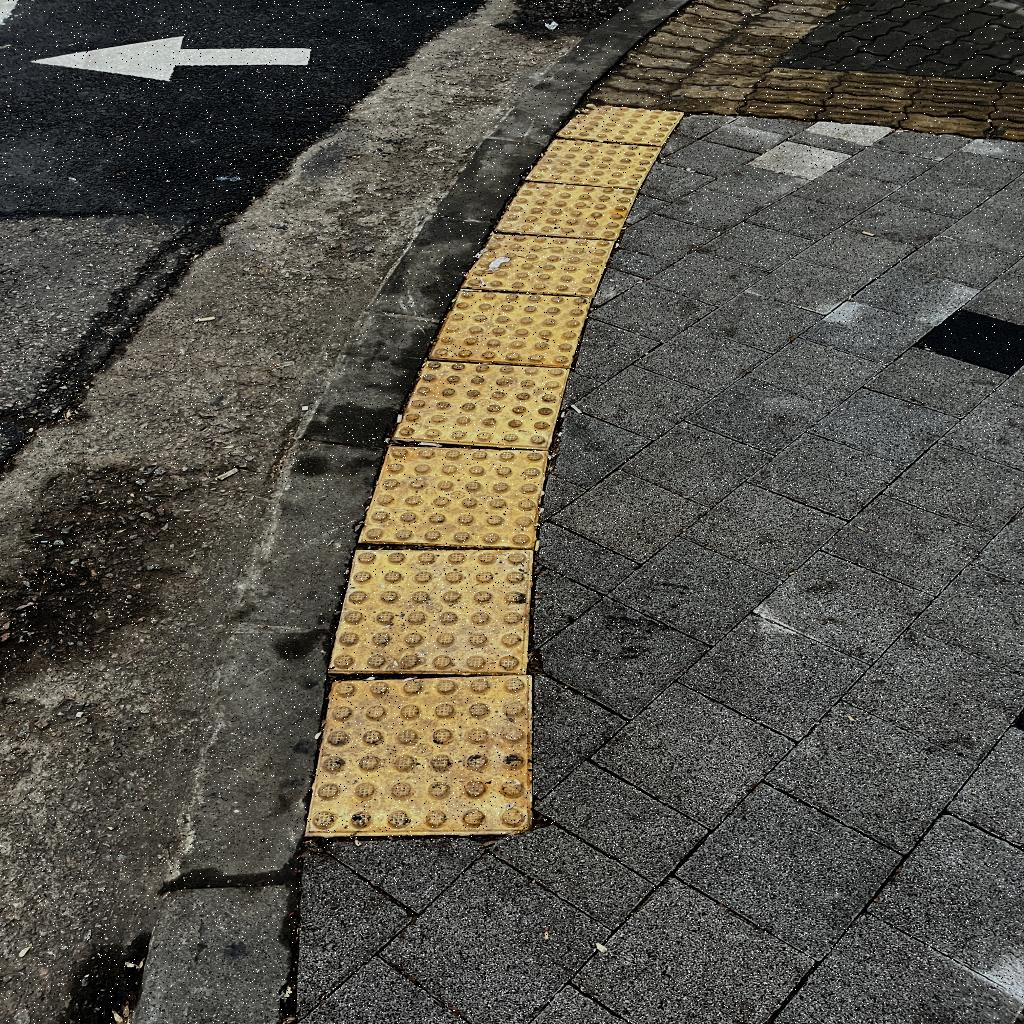Stop block broken: (463, 233, 612, 297)
Stop block normal: (303, 675, 536, 836), (329, 551, 532, 671), (360, 446, 546, 547), (394, 360, 568, 449), (431, 290, 589, 368), (496, 181, 637, 240)
